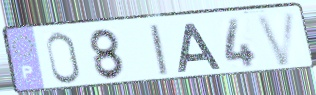0: (44, 30, 83, 87)
4: (223, 15, 259, 70)
8: (87, 27, 127, 82)
A: (176, 21, 224, 75)
I: (146, 22, 171, 78)
V: (253, 9, 299, 69)
